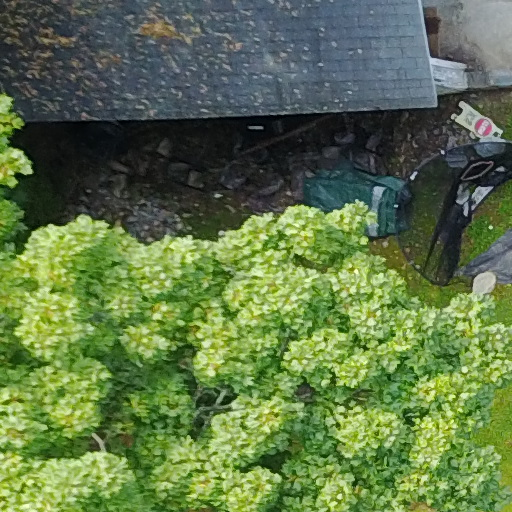clutter: (89, 101, 508, 225)
tarp: (280, 152, 433, 254)
